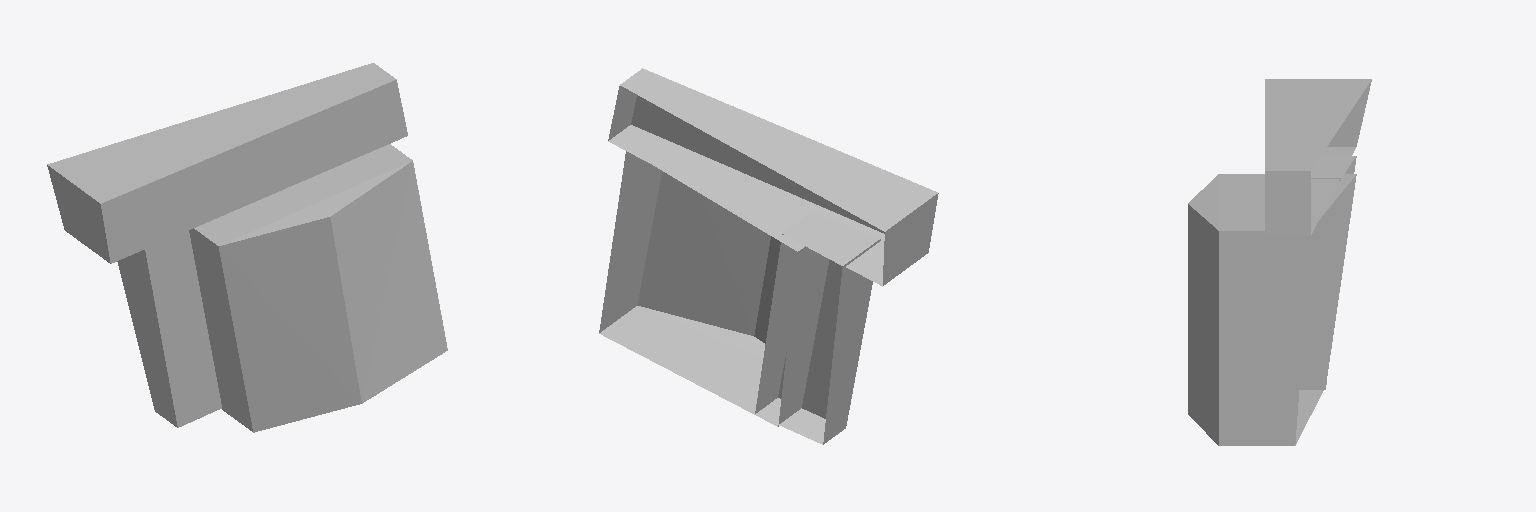
3 renders of one model, left to right at view 1: azimuth 30°, elevation 25°; view 2: azimuth 150°, elevation 25°; view 3: azimuth 270°, elevation 25°, orthographic.
Parts seen in each view (by area): view 1: [number redacted]; view 2: [number redacted]; view 3: [number redacted].
Part boxes in pixels (bbox=[...]): [number redacted]: bbox=[47, 63, 447, 432]; [number redacted]: bbox=[599, 68, 938, 444]; [number redacted]: bbox=[1188, 79, 1371, 445].
Size of the model in its own units: 12.19 by 10.88 by 6.